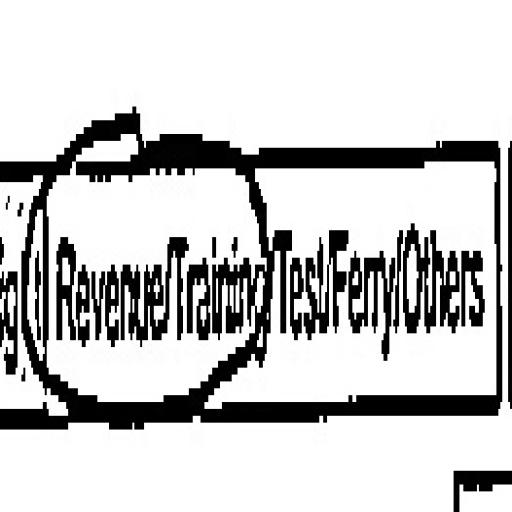check: (43, 54, 162, 460), (167, 68, 275, 470)
